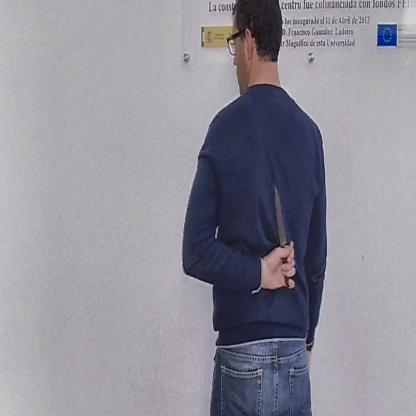knife: (270, 176, 299, 296)
